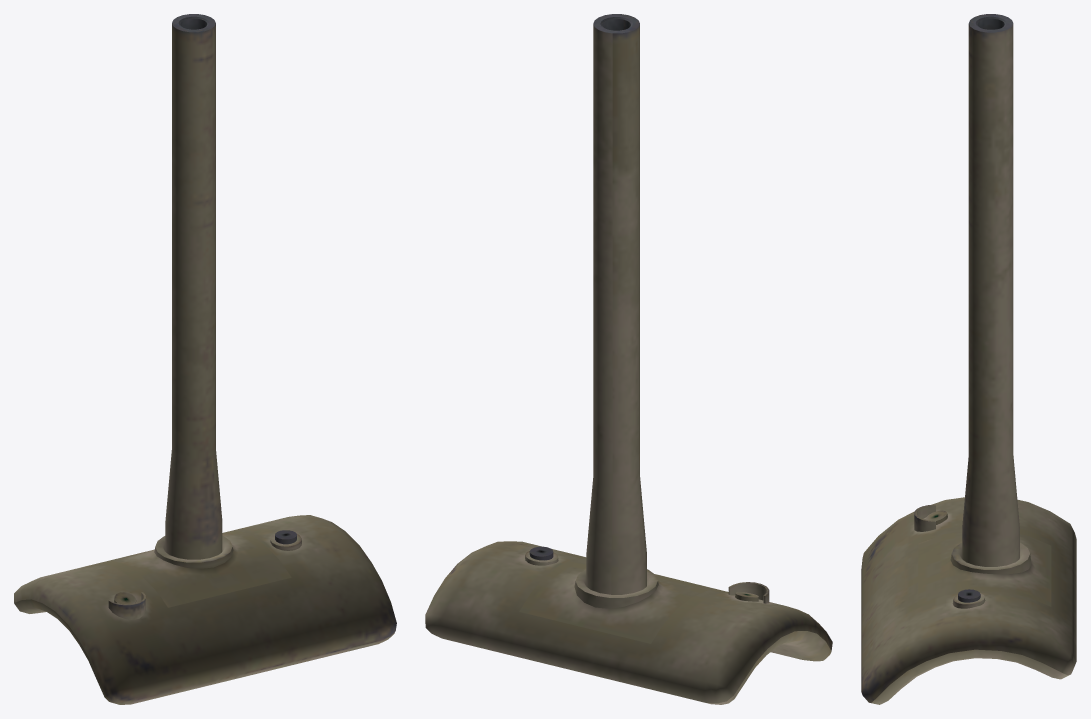
File: Gun_04.glb
3 renders of one model, left to right at view 1: azimuth 30°, elevation 25°; view 2: azimuth 150°, elevation 25°; view 3: azimuth 270°, elevation 25°, orthographic. The views are drawn at different scales.
Parts seen in each view (by area): view 1: set_0_group_0; view 2: set_0_group_0; view 3: set_0_group_0.
Part boxes in pixels (box(x1,y1,x2,y2)): set_0_group_0: box(14, 14, 396, 704); set_0_group_0: box(425, 14, 832, 704); set_0_group_0: box(861, 14, 1076, 704).
Bounding box in the file's own units: 0.7343 × 1.45 × 0.4595.
Materials: 1 (1 with a texture image).
